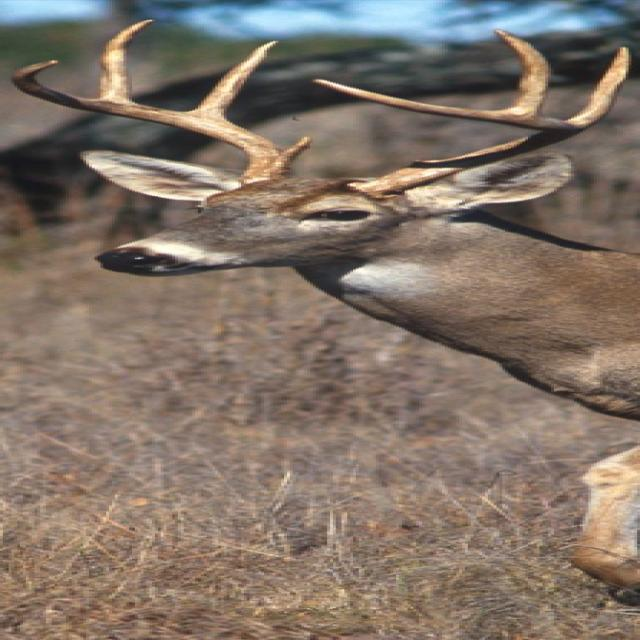L-F: (309, 78, 583, 196)
L-G1: (566, 45, 635, 131)
L-G2: (493, 28, 554, 116)
R-F: (11, 59, 295, 187)
R-G1: (283, 136, 313, 160)
R-G2: (186, 39, 281, 120)
R-G3: (99, 19, 156, 104)
